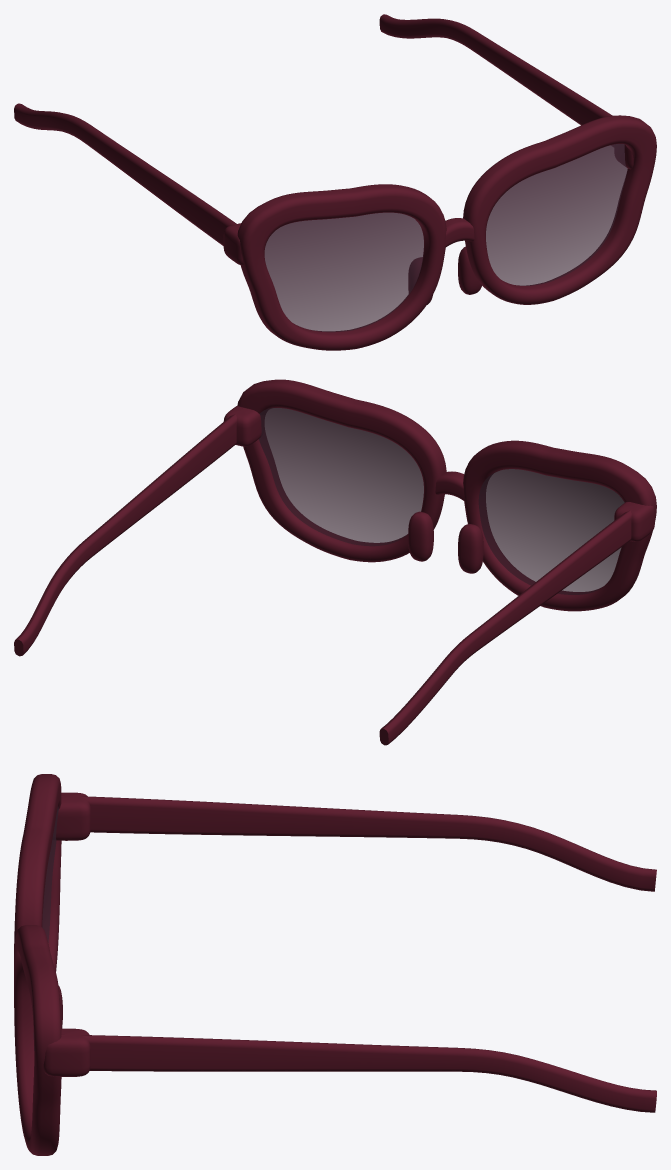
Rendered from TO-CAT-02.glb.
The picture shows the model from 3 angles, top to bottom: view 1: azimuth 30°, elevation 25°; view 2: azimuth 150°, elevation 25°; view 3: azimuth 270°, elevation 25°; orthographic projection. The views are drawn at different scales.
Parts seen in each view (by area): view 1: frame, lenses; view 2: frame, lenses; view 3: frame, lenses.
Part boxes in pixels (x1,y1,x2,y2): frame: [14, 14, 656, 350]; lenses: [264, 144, 627, 332]; frame: [14, 379, 656, 745]; lenses: [259, 407, 624, 594]; frame: [14, 774, 656, 1155]; lenses: [33, 806, 58, 1050].
Size of the model in its own units: 0.1392 by 0.0518 by 0.1497.
